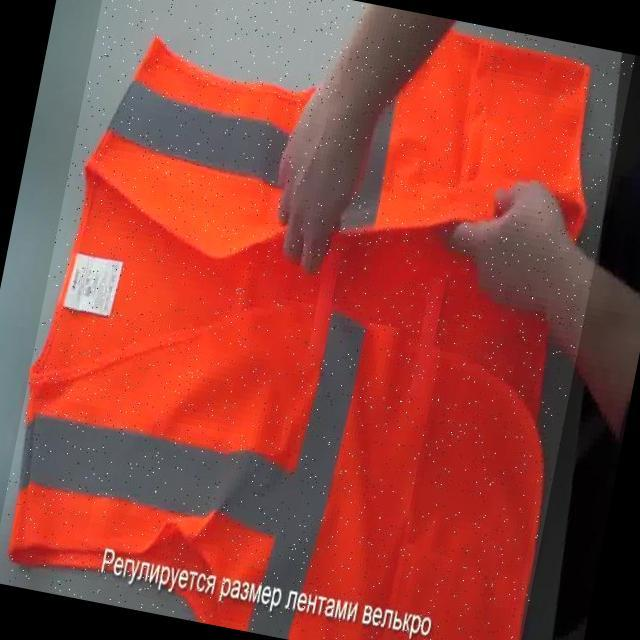Safety Vest: (0, 0, 635, 640)
